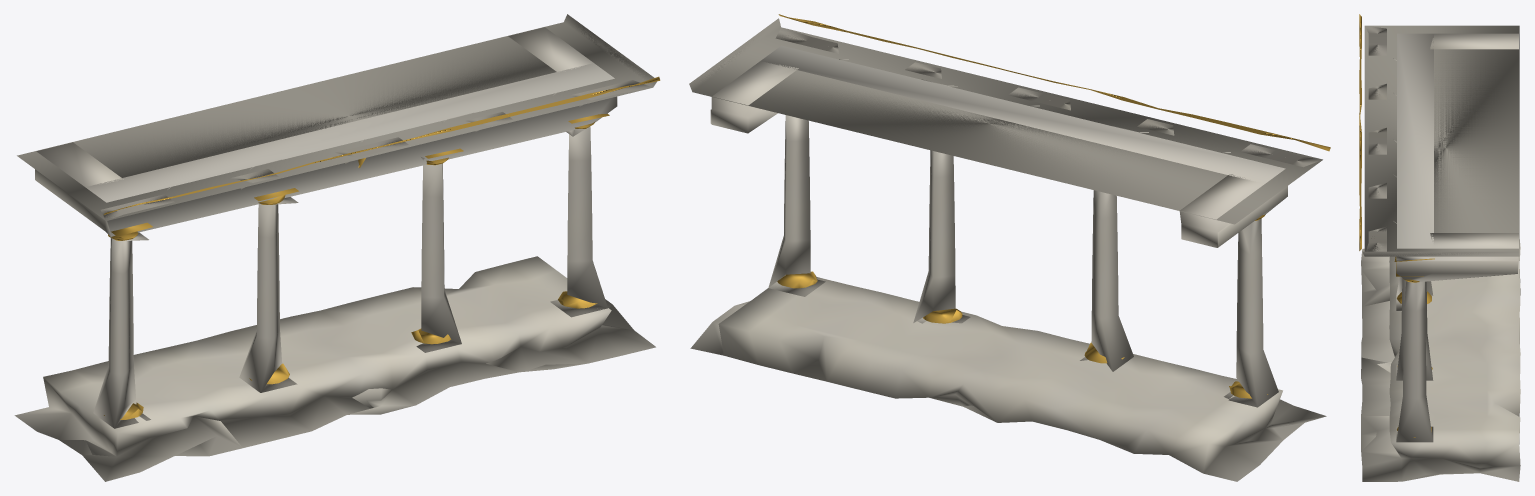
File: home_villa-porch_t3_ionic.glb
3 views of the same model, side by side, from view 1: azimuth 30°, elevation 25°; view 2: azimuth 150°, elevation 25°; view 3: azimuth 270°, elevation 25° (orthographic). The views are drawn at different scales.
Visible parts, largest first — view 1: marble, step.003, gold; view 2: marble, step.003, gold; view 3: marble, step.003, gold.
Boxes of the visible parts, x1,y1,x2,y2 form: marble: (17,14,656,428); step.003: (14,256,655,481); gold: (104,76,660,419); marble: (689,18,1322,407); step.003: (690,277,1326,481); gold: (777,14,1330,398); marble: (1362,25,1519,442); step.003: (1361,239,1520,481); gold: (1359,14,1434,437).
Size of the model in its own units: 6.62 by 3.08 by 1.92.
